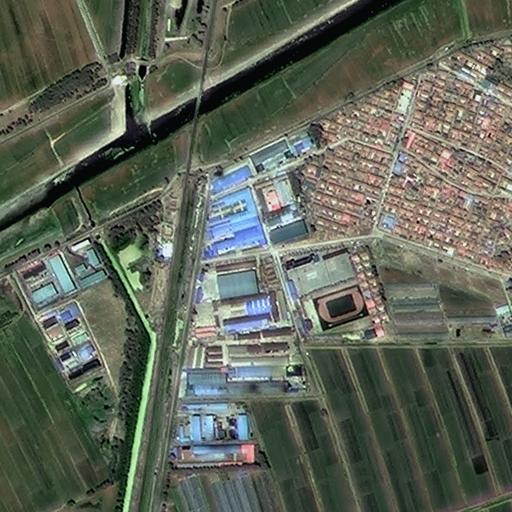school: (278, 247, 373, 342)
